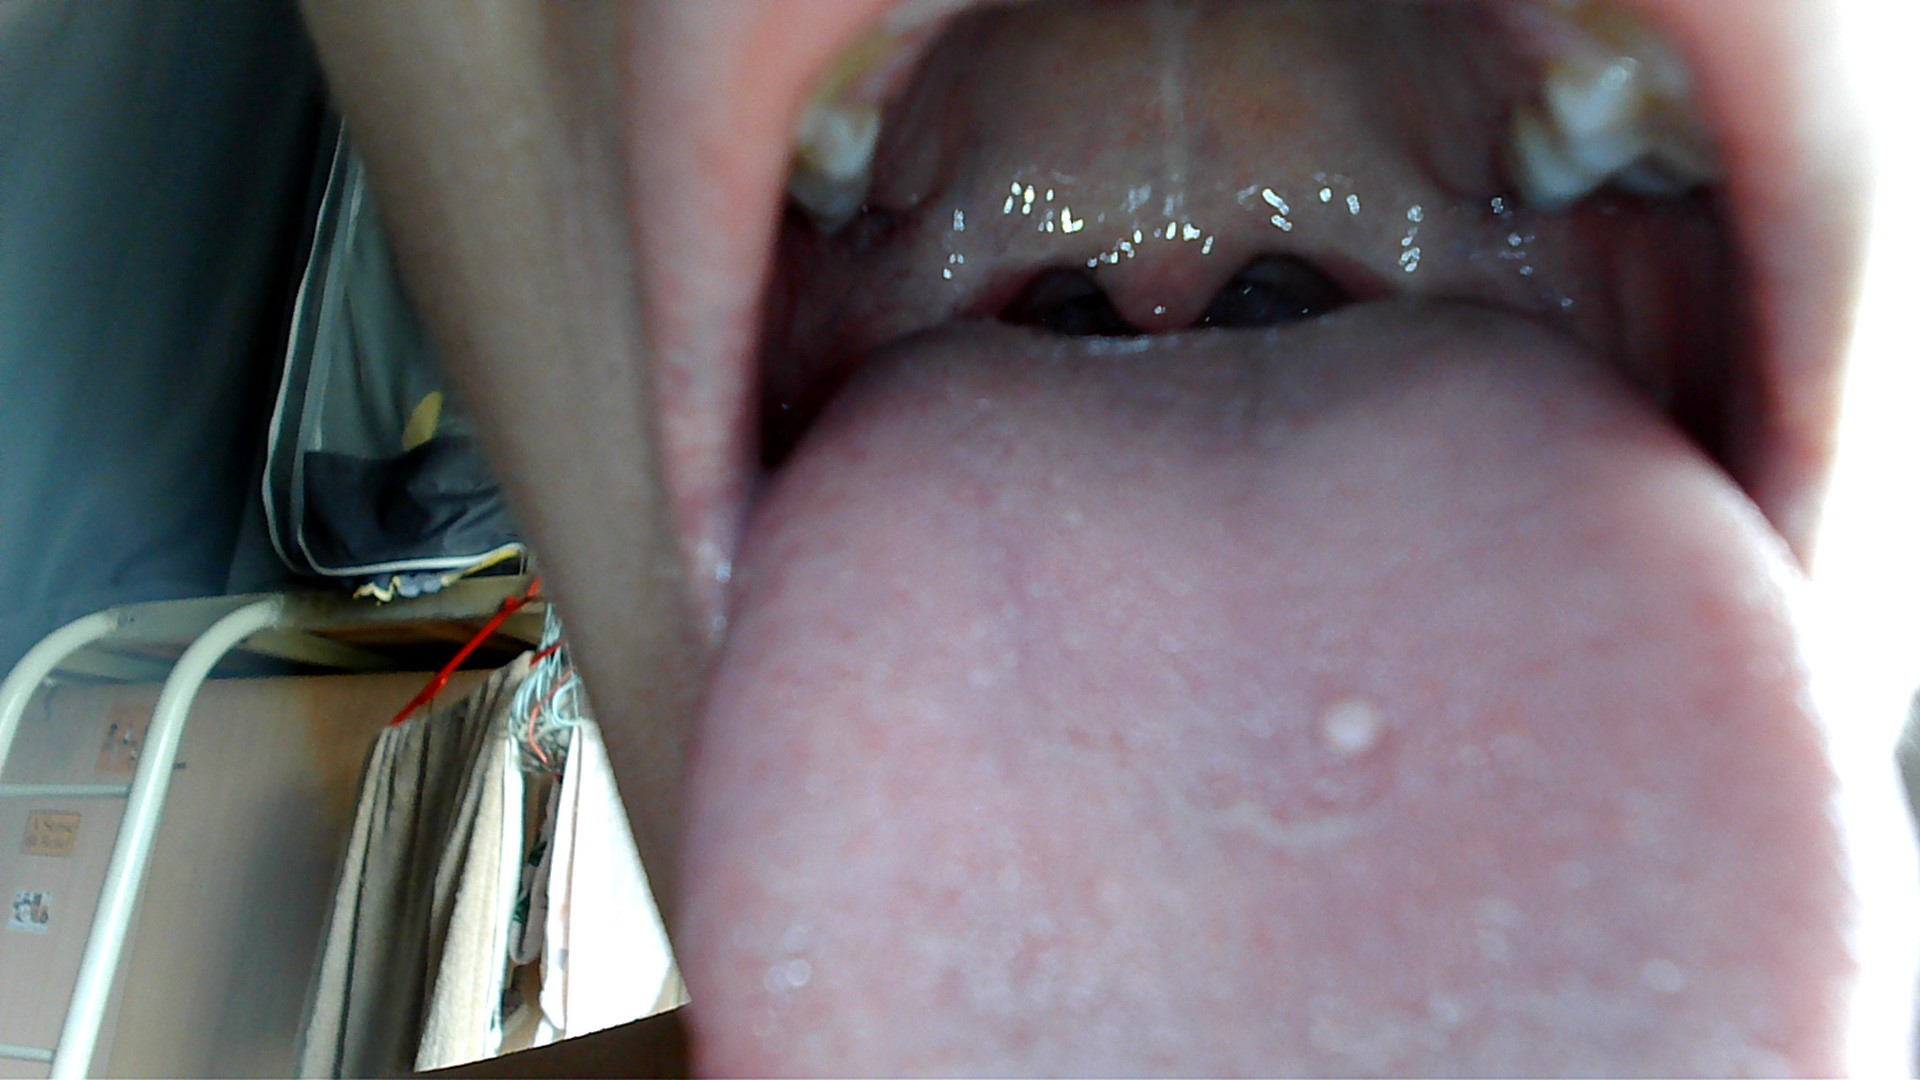throat: (1305, 196, 1462, 295), (878, 224, 1026, 320)
